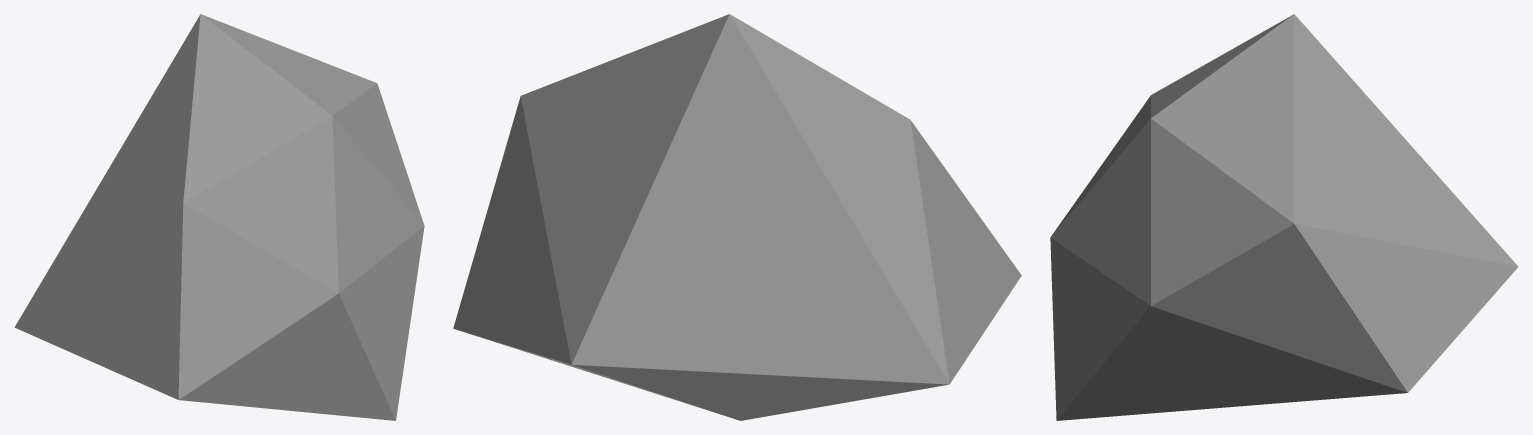
Rendered from Rock_3.fbx.
The picture shows the model from 3 angles, left to right: view 1: azimuth 30°, elevation 25°; view 2: azimuth 150°, elevation 25°; view 3: azimuth 270°, elevation 25°; orthographic projection. The views are drawn at different scales.
Parts seen in each view (by area): view 1: Rock_3; view 2: Rock_3; view 3: Rock_3.
Boxes of the visible parts, bbox=[...] form: Rock_3: bbox=[14, 14, 424, 420]; Rock_3: bbox=[453, 14, 1021, 420]; Rock_3: bbox=[1050, 14, 1518, 420].
Bounding box in the file's own units: 4.02 × 3.62 × 4.22.
Materials: 1 (1 with a texture image).
